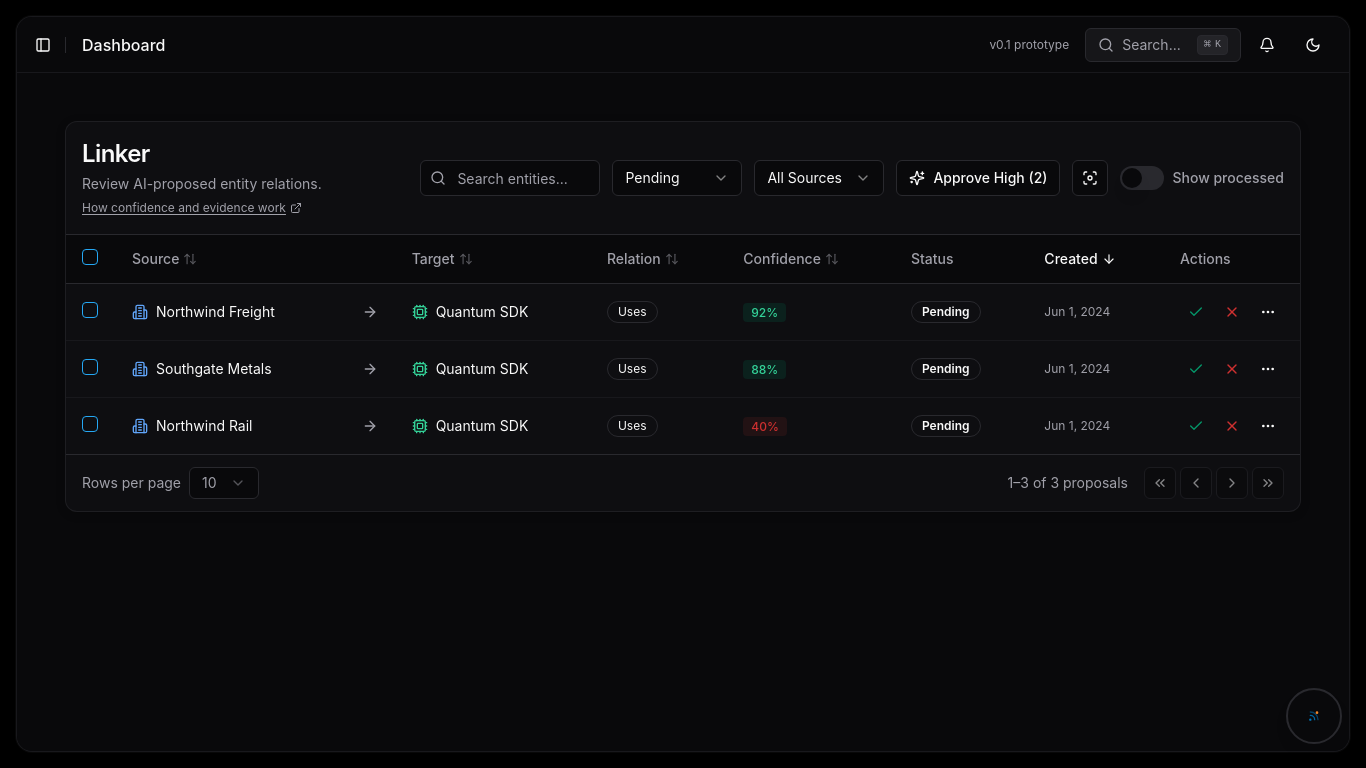
Scenario: LinkerTriagePage — Approve High is bounded by the visible scope › keeps the failed proposals selected so the operator can retry
Expected: the text "Northwind Freight" is shown, [156,302,275,322]
Click the checkbox named "Select Northwind Freight → Quantum SDK". click: click(90, 310)
box: [82,302,98,318]
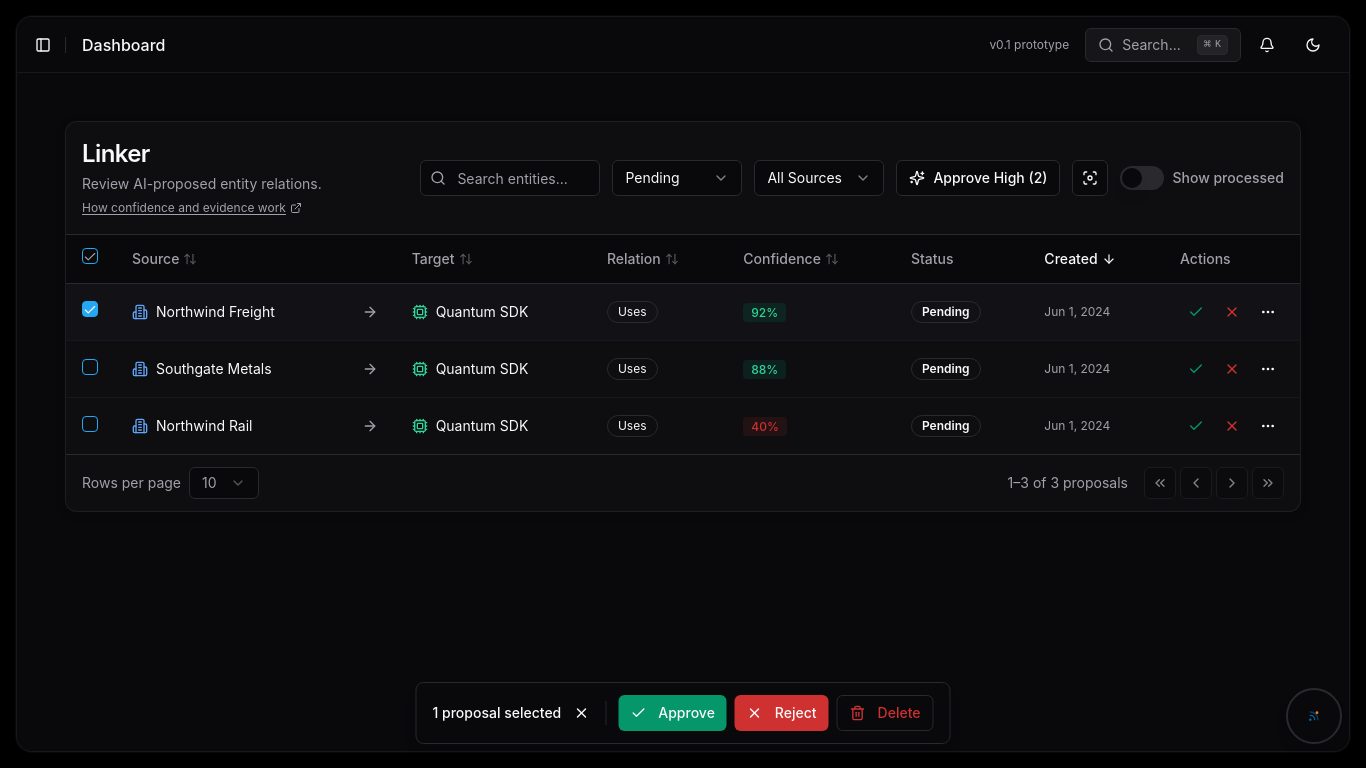
Click the checkbox named "Select Southgate Metals → Quantum SDK". click: click(90, 366)
box: [82,358,98,374]
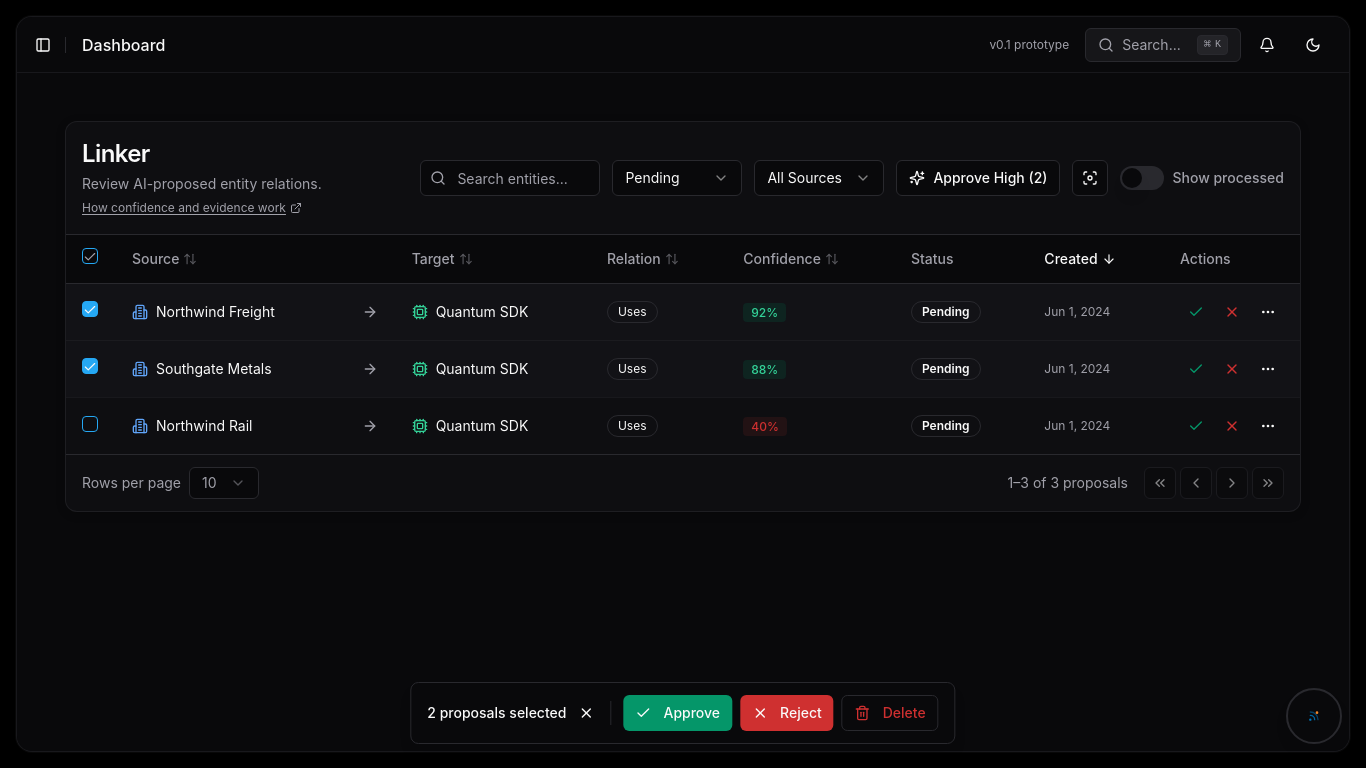
Click the button with test id "bulk-approve". click: click(678, 713)
box: [624,695,732,731]
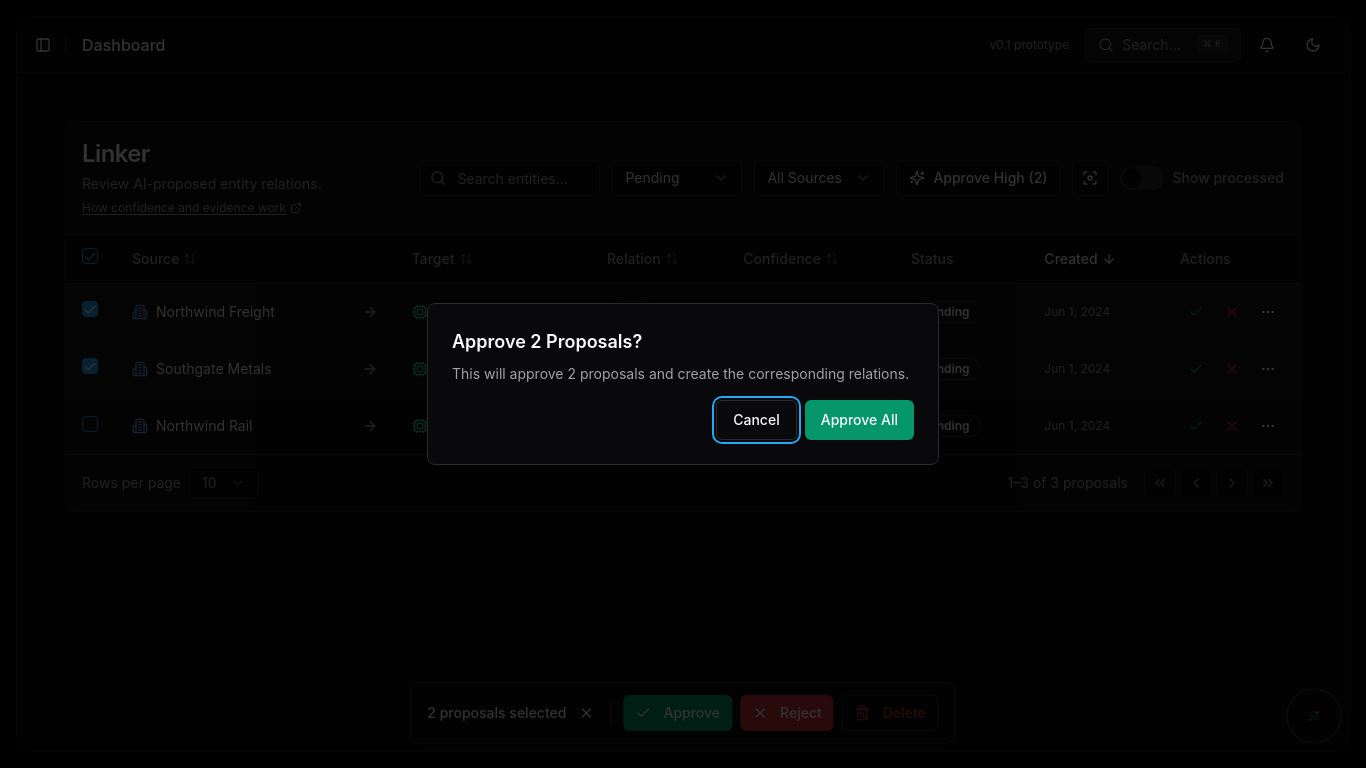
Click the button "Approve All". click: click(859, 420)
box: [805,400,914,440]
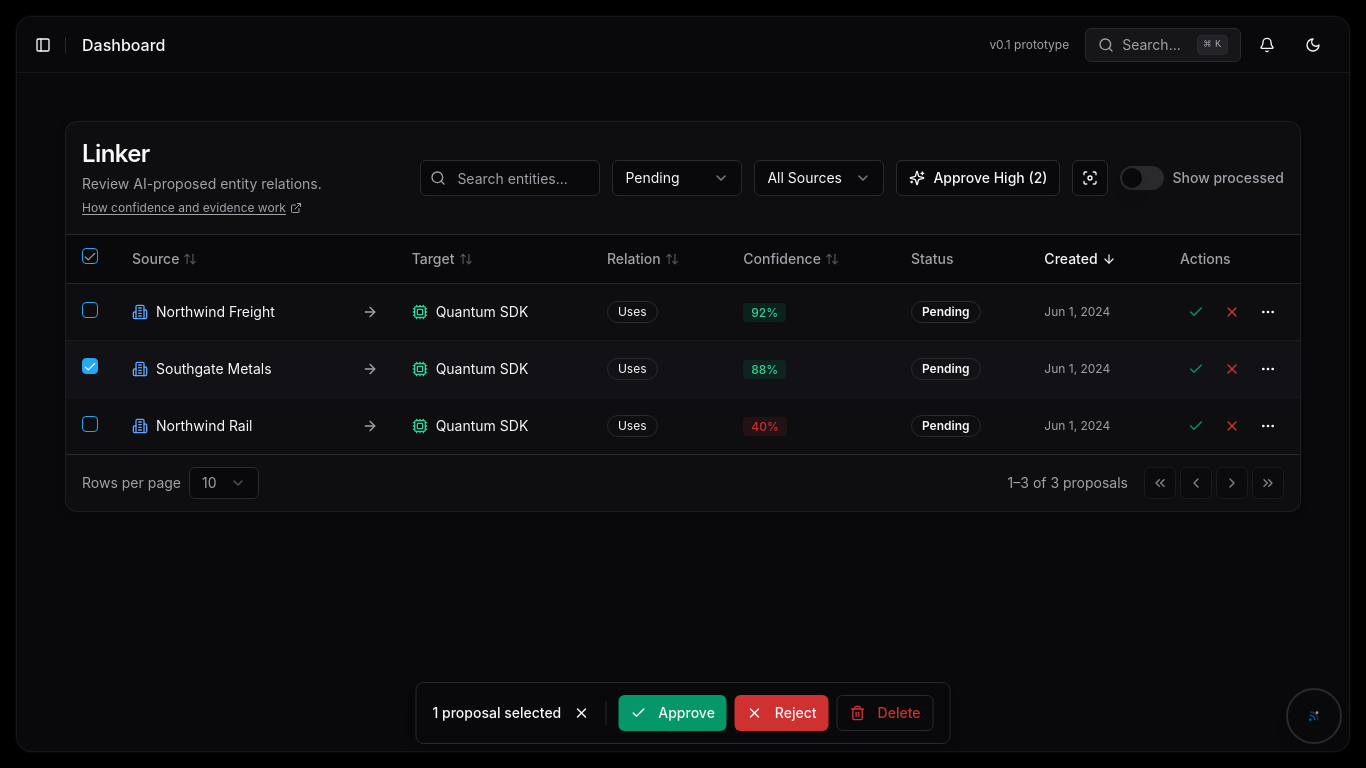
Now the text "1 proposal selected" is shown, box [432,703,561,723]
